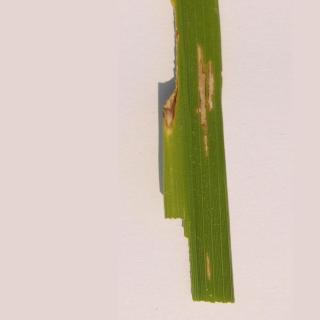Hawar-Daun: (150, 0, 195, 129), (186, 31, 224, 153), (196, 246, 223, 286)
